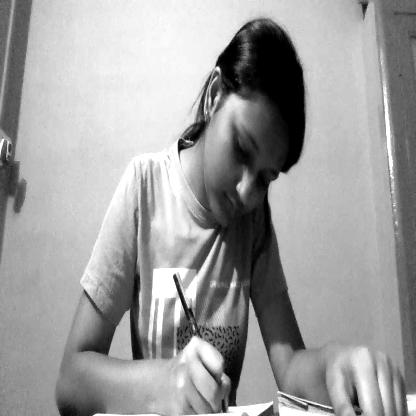Distracted: (204, 68, 288, 235)
